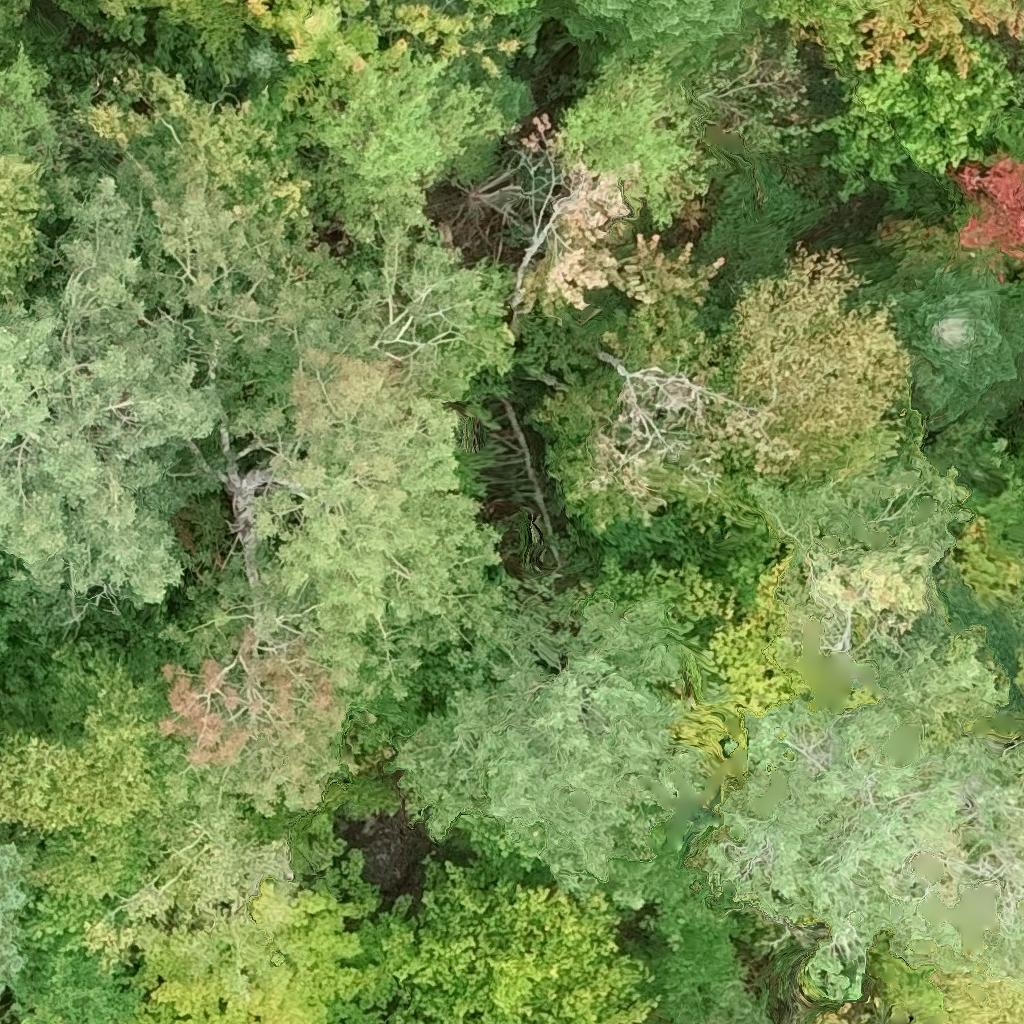crown: (0, 840, 31, 996)
